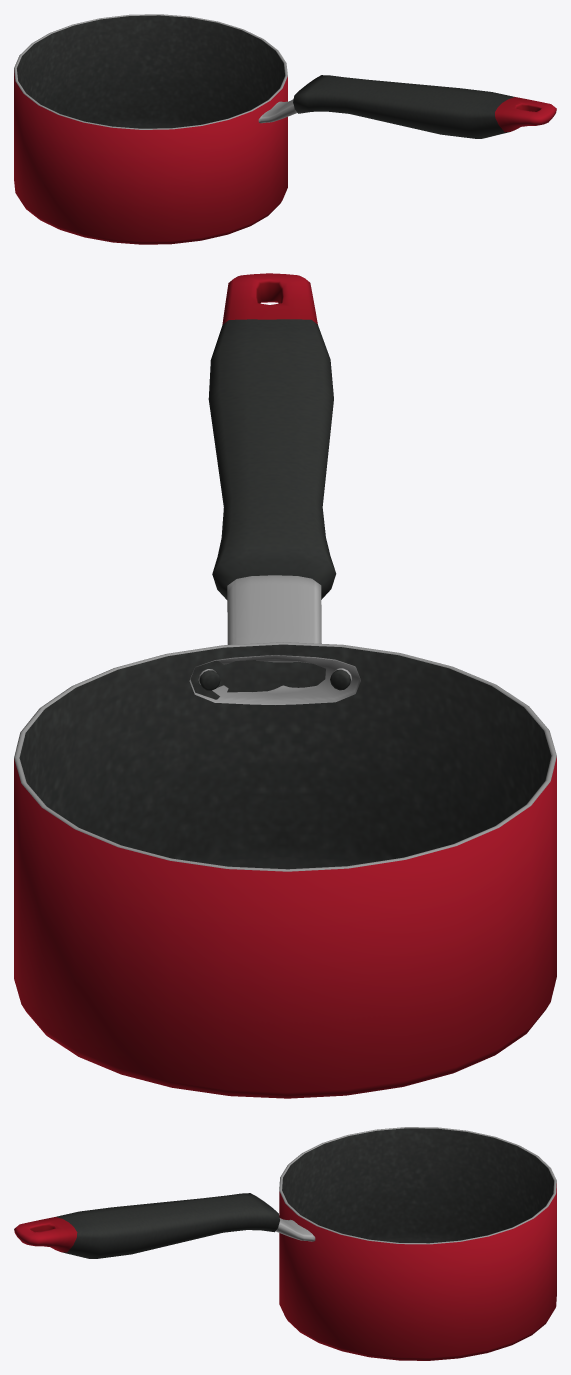
File: pot.gltf
3 views of the same model, one above another, from view 1: azimuth 30°, elevation 25°; view 2: azimuth 150°, elevation 25°; view 3: azimuth 270°, elevation 25° (orthographic). The views are drawn at different scales.
Visible parts, largest first — view 1: grip; view 2: grip; view 3: grip.
Part boxes in pixels (x1,y1,x2,y2): grip: (14, 14, 556, 244); grip: (14, 273, 556, 1098); grip: (14, 1127, 556, 1360).
Size of the model in its own units: 0.4724 by 0.2329 by 0.6551.
Materials: 2 (2 with a texture image).
